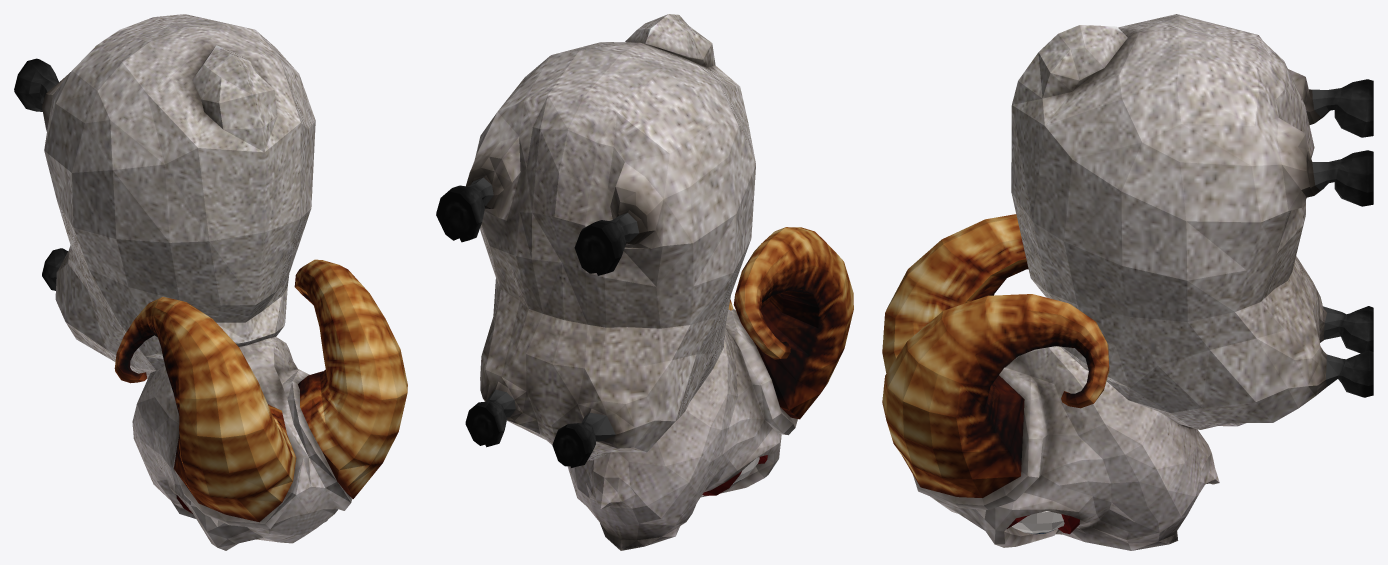
File: ram.obj
The picture shows the model from 3 angles, left to right: view 1: azimuth 30°, elevation 25°; view 2: azimuth 150°, elevation 25°; view 3: azimuth 270°, elevation 25°; orthographic projection. The views are drawn at different scales.
Parts seen in each view (by area): view 1: ram; view 2: ram; view 3: ram.
Part boxes in pixels (left/top/right/bottom): ram: left=14, top=14, right=407, bottom=550; ram: left=436, top=14, right=853, bottom=550; ram: left=882, top=14, right=1373, bottom=550.
Size of the model in its own units: 0.6723 by 1.34 by 1.15.
